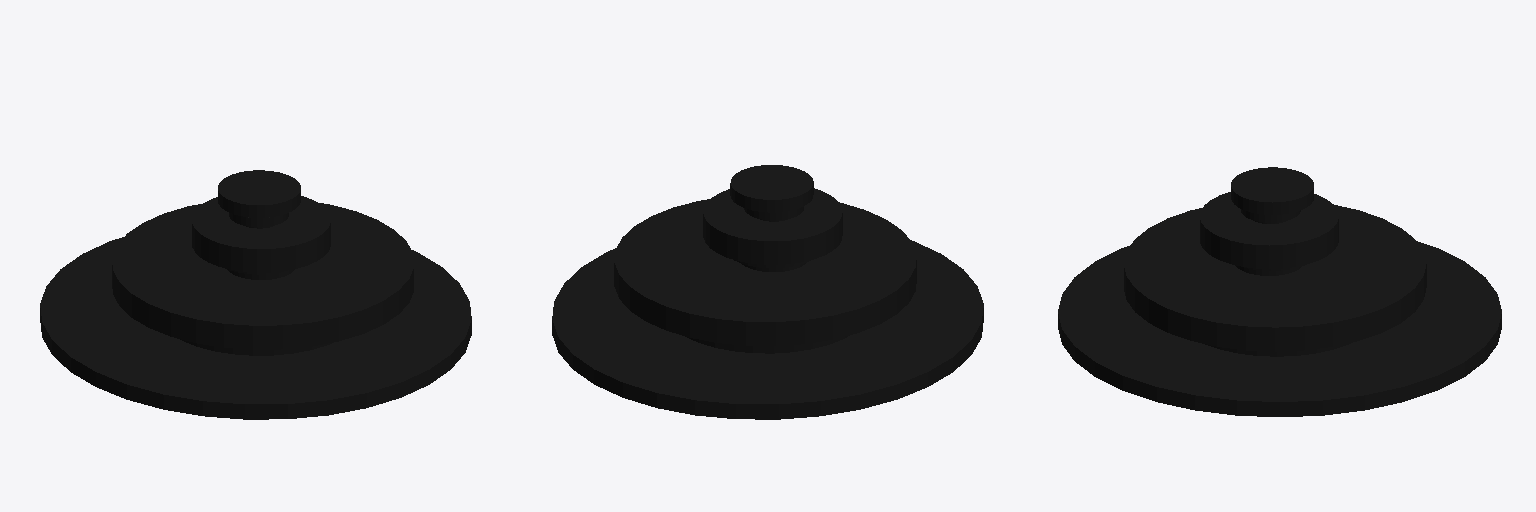
The model's file is fuente.obj.
3 renders of one model, left to right at view 1: azimuth 30°, elevation 25°; view 2: azimuth 150°, elevation 25°; view 3: azimuth 270°, elevation 25°, orthographic.
Visible parts, largest first — view 1: Cylinder.009_Cylinder.012; view 2: Cylinder.009_Cylinder.012; view 3: Cylinder.009_Cylinder.012.
Part boxes in pixels (left/top/right/bottom): Cylinder.009_Cylinder.012: left=40, top=170, right=471, bottom=419; Cylinder.009_Cylinder.012: left=552, top=165, right=983, bottom=419; Cylinder.009_Cylinder.012: left=1058, top=167, right=1501, bottom=416.
Bounding box in the file's own units: 5.82 × 2.13 × 6.04.